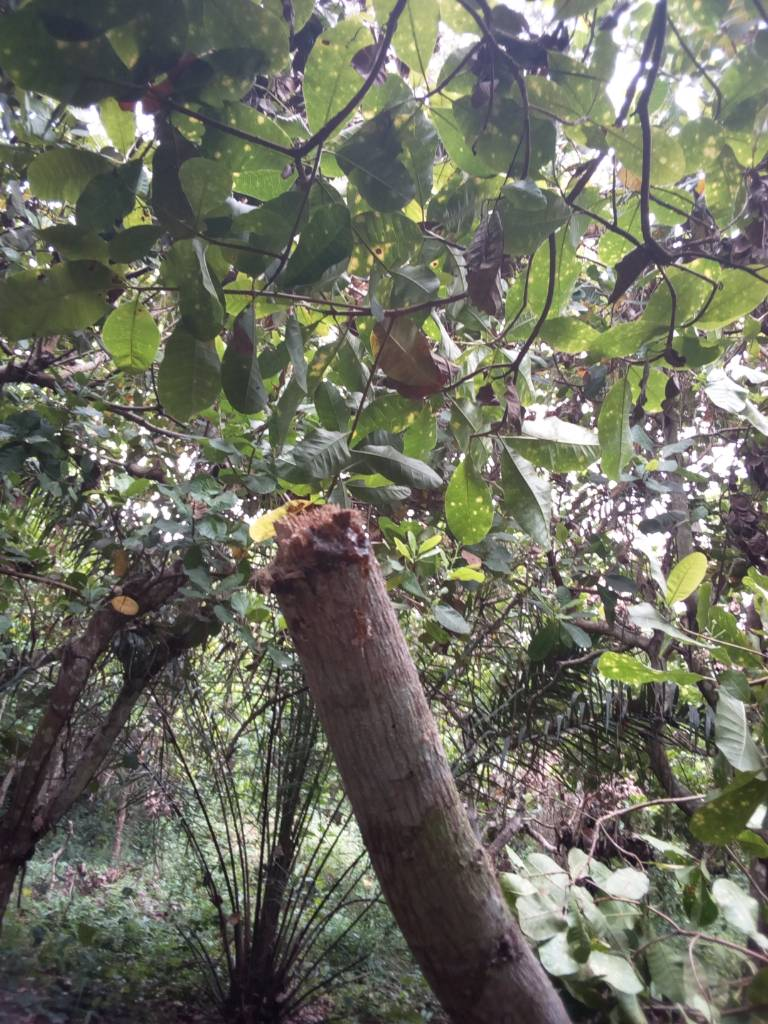Analepse trifasciata: (233, 486, 411, 617)
